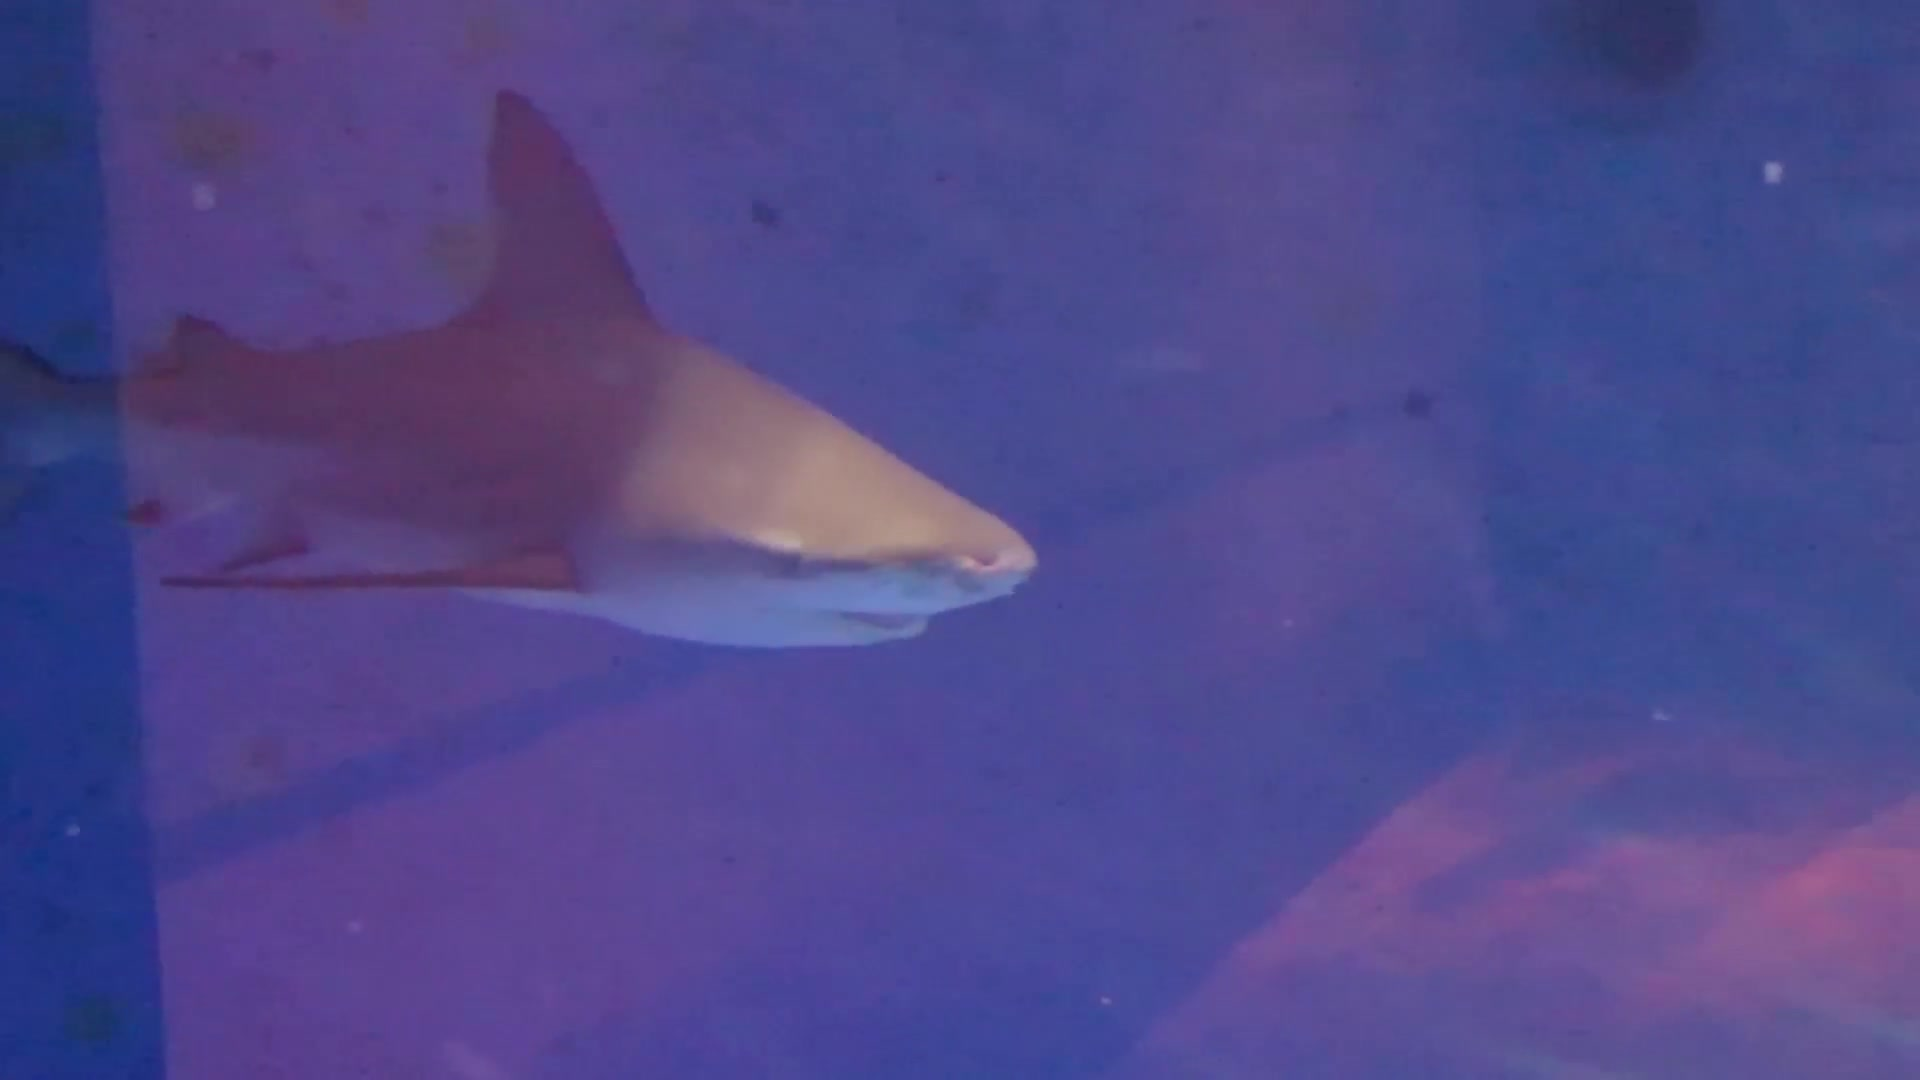Carcharhinus leucas: (1, 57, 1048, 709)
